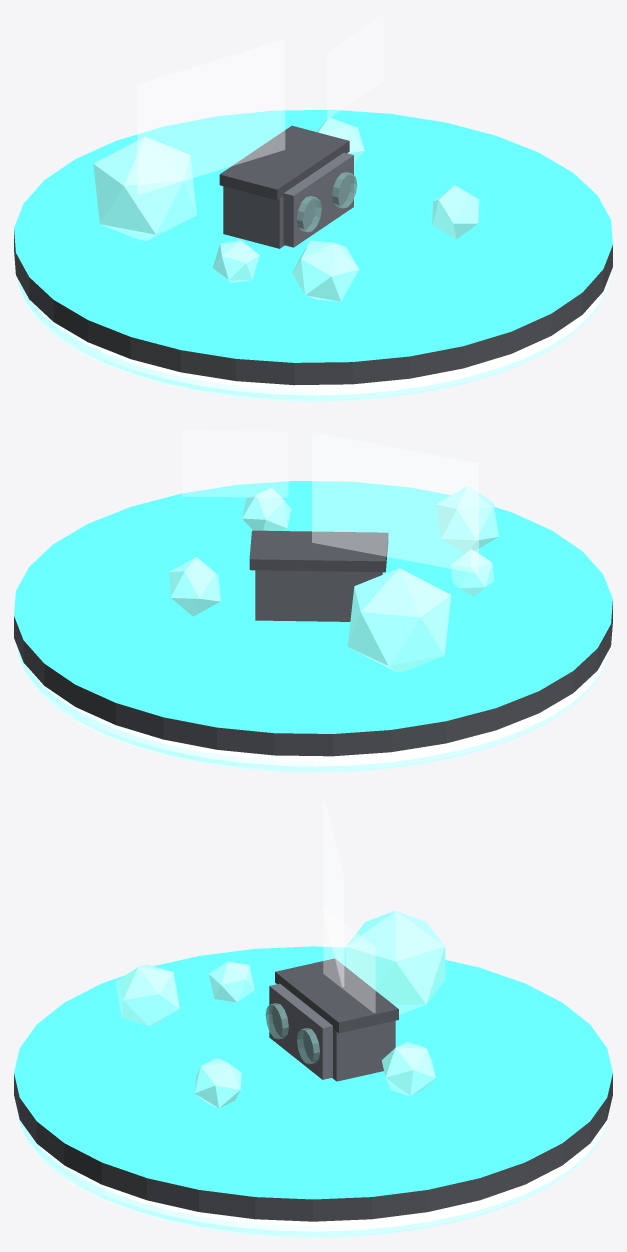
File: ARScene_plateform_cyan.glb
The picture shows the model from 3 angles, top to bottom: view 1: azimuth 30°, elevation 25°; view 2: azimuth 150°, elevation 25°; view 3: azimuth 270°, elevation 25°; orthographic projection.
Parts seen in each view (by area): view 1: Cylinder_Cyan, Holo_Main, Ring_Cyan.001, Prim_Octahedron_Main, VR_TopBand, VR_Front, Holo_Secondary, Ico_Small_0, VR_Body, Ico_Small_1, Ico_Small_2, Ico_Small_3 (+2 smaller); view 2: Cylinder_Cyan, Holo_Main, Ring_Cyan.001, Prim_Octahedron_Main, Holo_Secondary, VR_TopBand, VR_Body, Ico_Small_0, Ico_Small_3, Ico_Small_1, Ico_Small_2; view 3: Cylinder_Cyan, Ring_Cyan.001, Prim_Octahedron_Main, VR_TopBand, VR_Front, Holo_Secondary, Ico_Small_0, VR_Body, Holo_Main, Ico_Small_3, Ico_Small_1, Ico_Small_2 (+2 smaller).
Boxes of the visible parts, <box> form: Cylinder_Cyan: <box>14,109,612,385</box>; Holo_Main: <box>137,39,284,194</box>; Ring_Cyan.001: <box>17,274,610,401</box>; Prim_Octahedron_Main: <box>93,137,196,240</box>; VR_TopBand: <box>219,125,349,200</box>; VR_Front: <box>283,152,353,247</box>; Holo_Secondary: <box>327,14,383,118</box>; Ico_Small_0: <box>292,240,359,301</box>; VR_Body: <box>223,186,284,248</box>; Ico_Small_1: <box>432,185,479,239</box>; Ico_Small_2: <box>213,240,259,282</box>; Ico_Small_3: <box>316,117,364,162</box>; Cylinder_Cyan: <box>14,481,612,756</box>; Holo_Main: <box>312,432,478,573</box>; Ring_Cyan.001: <box>17,646,609,772</box>; Prim_Octahedron_Main: <box>347,568,451,672</box>; Holo_Secondary: <box>182,430,287,497</box>; VR_TopBand: <box>249,530,388,572</box>; VR_Body: <box>255,570,382,621</box>; Ico_Small_0: <box>436,486,498,553</box>; Ico_Small_3: <box>169,557,220,616</box>; Ico_Small_1: <box>242,488,291,530</box>; Ico_Small_2: <box>451,549,494,596</box>; Cylinder_Cyan: <box>14,946,612,1221</box>; Ring_Cyan.001: <box>17,1110,609,1237</box>; Prim_Octahedron_Main: <box>346,910,445,1013</box>; VR_TopBand: <box>275,958,398,1033</box>; VR_Front: <box>269,983,332,1079</box>; Holo_Secondary: <box>323,908,375,1012</box>; Ico_Small_0: <box>116,964,179,1025</box>; VR_Body: <box>332,1020,395,1081</box>; Holo_Main: <box>323,801,343,986</box>; Ico_Small_3: <box>382,1042,435,1096</box>; Ico_Small_1: <box>194,1058,241,1108</box>; Ico_Small_2: <box>209,961,254,1002</box>.
Size of the model in its own units: 2.2 by 0.9401 by 2.2.
